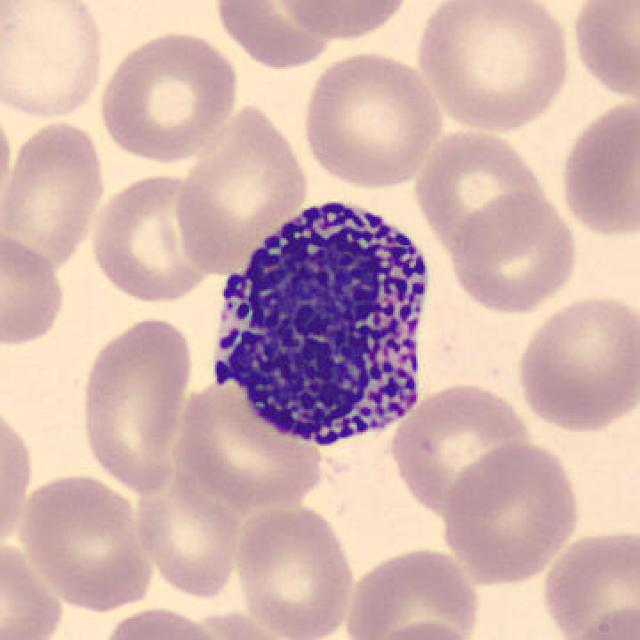Basophil: (197, 185, 441, 460)
RBC: (171, 99, 313, 275), (74, 312, 196, 495), (169, 376, 327, 513), (412, 0, 574, 132), (439, 438, 583, 586), (12, 469, 156, 614), (299, 48, 446, 190), (94, 26, 242, 164), (388, 379, 535, 517), (85, 169, 224, 305), (512, 289, 638, 436), (411, 124, 549, 255), (230, 499, 358, 638), (445, 188, 583, 316), (0, 114, 108, 273), (130, 457, 245, 601), (342, 543, 486, 640), (0, 0, 108, 123), (554, 95, 640, 241), (537, 524, 638, 638), (211, 1, 345, 70), (0, 227, 69, 350), (567, 0, 638, 106), (0, 536, 68, 640), (347, 590, 485, 636), (270, 0, 419, 42), (0, 395, 37, 552), (144, 606, 302, 640), (96, 603, 226, 640), (560, 599, 640, 640), (361, 617, 483, 640), (0, 97, 14, 224)
